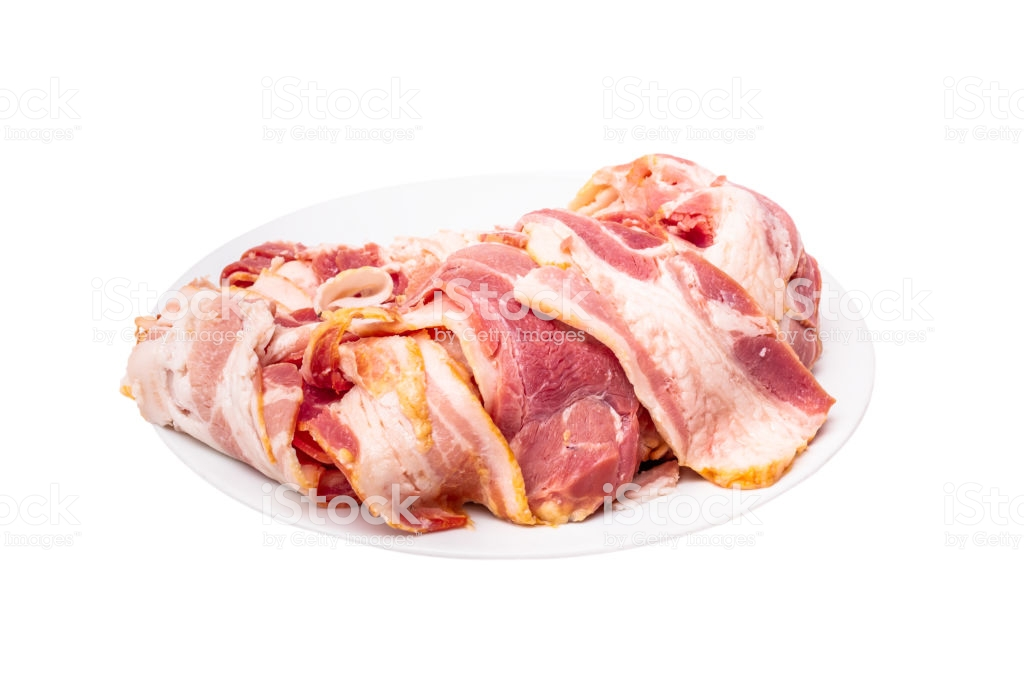bacon: (144, 162, 844, 538)
